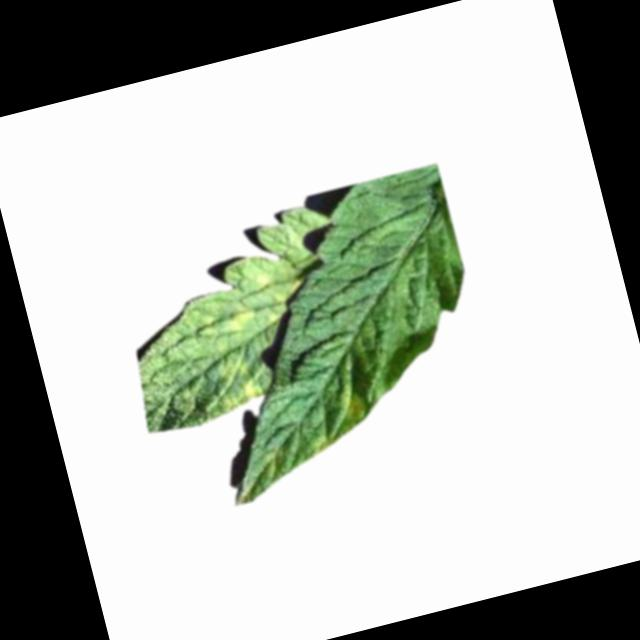Leaf_Mold: (202, 348, 266, 415), (328, 376, 372, 425), (217, 293, 260, 338), (302, 427, 338, 458)
